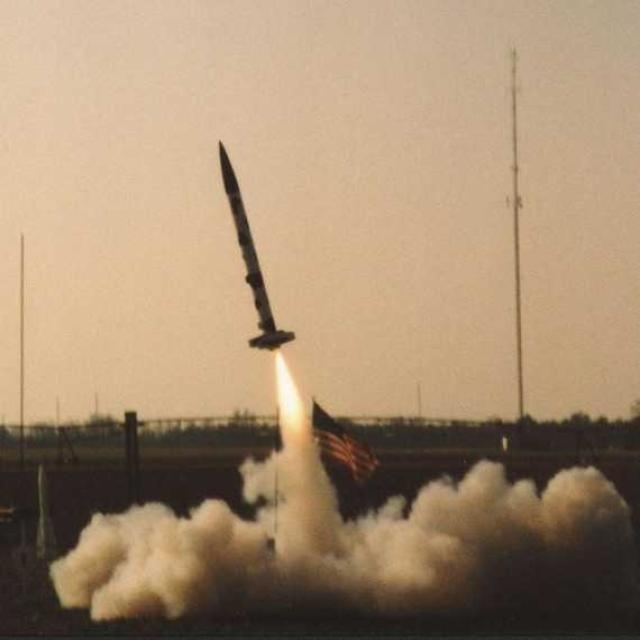missile: (206, 134, 302, 359)
